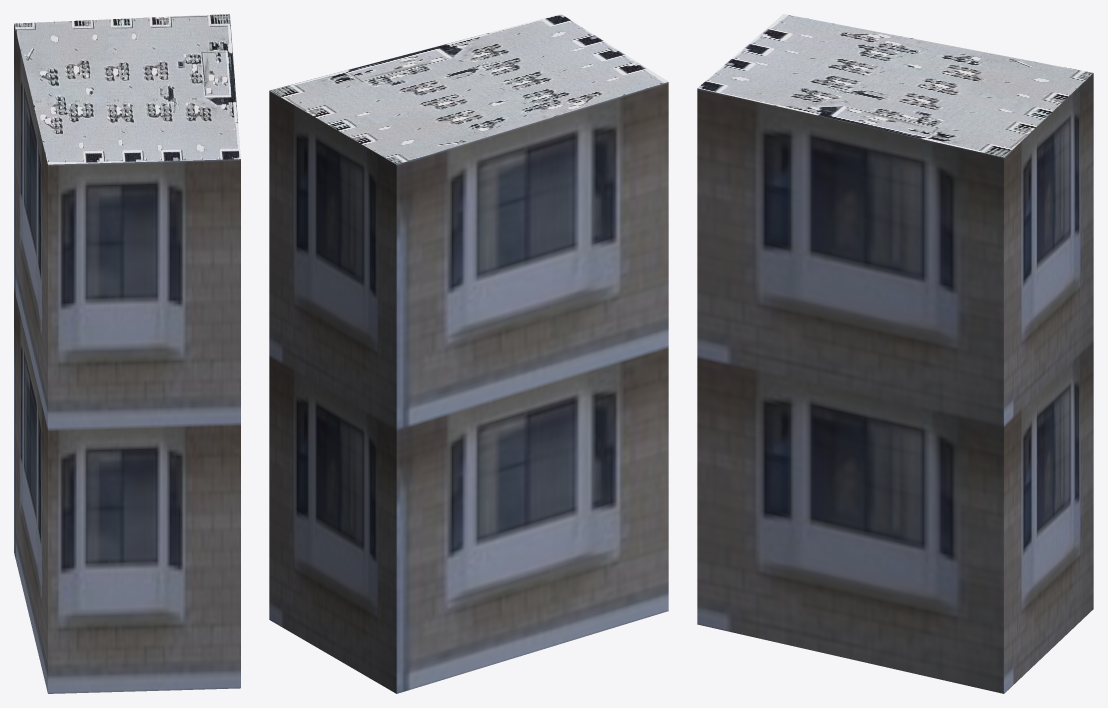
The model's file is ResTex__471.fbx.
The picture shows the model from 3 angles, left to right: view 1: azimuth 30°, elevation 25°; view 2: azimuth 150°, elevation 25°; view 3: azimuth 270°, elevation 25°; orthographic projection.
Visible parts, largest first — view 1: CityEngineMaterial_3_m, CityEngineMaterial_4_m; view 2: CityEngineMaterial_3_m, CityEngineMaterial_4_m; view 3: CityEngineMaterial_3_m, CityEngineMaterial_4_m.
Boxes of the visible parts, x1,y1,x2,y2 form: CityEngineMaterial_3_m: [14, 24, 240, 693]; CityEngineMaterial_4_m: [14, 14, 240, 164]; CityEngineMaterial_3_m: [269, 82, 668, 693]; CityEngineMaterial_4_m: [269, 14, 668, 164]; CityEngineMaterial_3_m: [697, 73, 1093, 693]; CityEngineMaterial_4_m: [698, 14, 1092, 157].
Bounding box in the file's own units: 3.45 × 6 × 4.02.
Materials: 2 (2 with a texture image).
